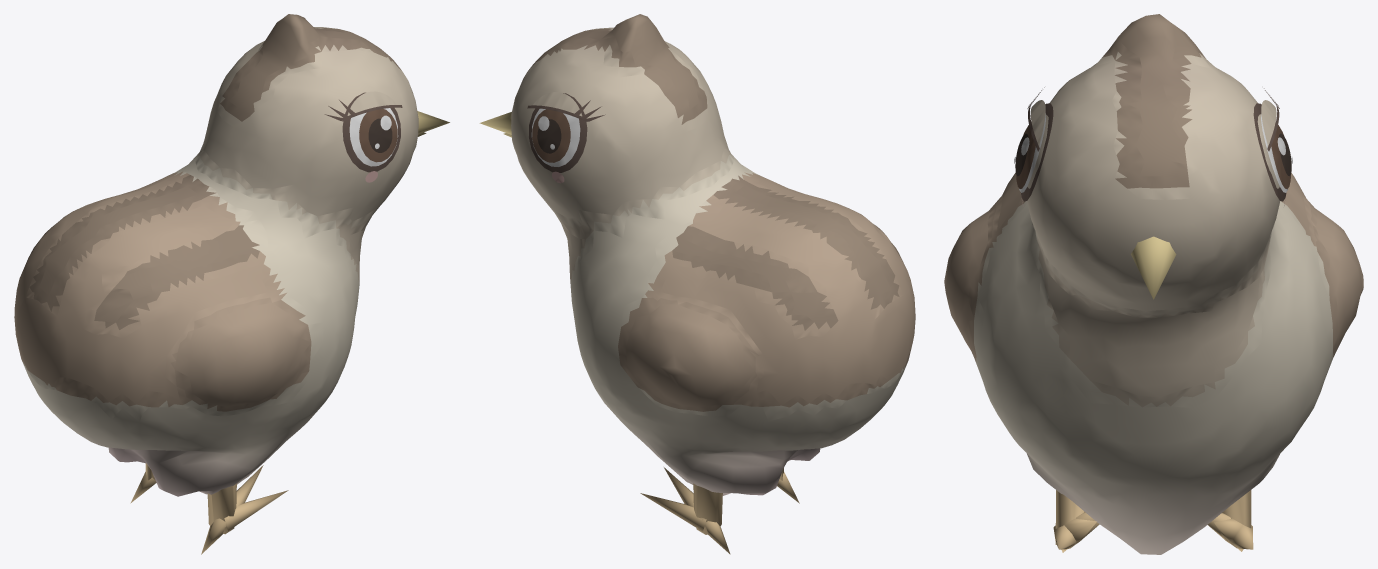
The model's file is baby_turkey.glb.
3 renders of one model, left to right at view 1: azimuth 30°, elevation 25°; view 2: azimuth 150°, elevation 25°; view 3: azimuth 270°, elevation 25°, orthographic. The views are drawn at different scales.
Parts seen in each view (by area): view 1: baby_turkey; view 2: baby_turkey; view 3: baby_turkey.
Boxes of the visible parts, box(x1,y1,x2,y2) form: baby_turkey: box(14, 14, 449, 554); baby_turkey: box(479, 14, 915, 554); baby_turkey: box(944, 14, 1363, 554).
Bounding box in the file's own units: 0.3807 × 0.4212 × 0.2595.
